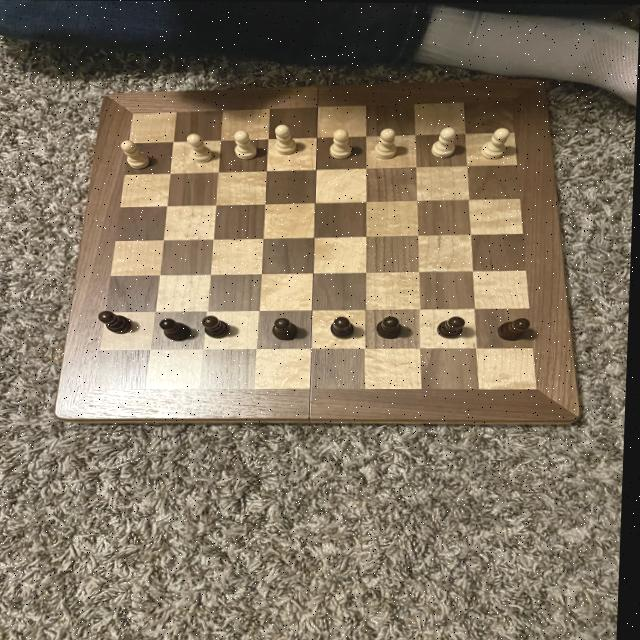black-knight: (98, 307, 137, 336), (159, 316, 197, 345), (499, 314, 535, 343), (203, 312, 236, 341), (436, 314, 469, 342), (377, 313, 406, 343), (329, 313, 359, 342), (271, 316, 302, 342)
white-knight: (479, 124, 513, 161), (231, 129, 263, 161), (120, 138, 152, 170), (184, 133, 217, 164), (430, 125, 459, 158), (372, 127, 401, 160), (271, 123, 300, 155), (329, 127, 356, 161)
